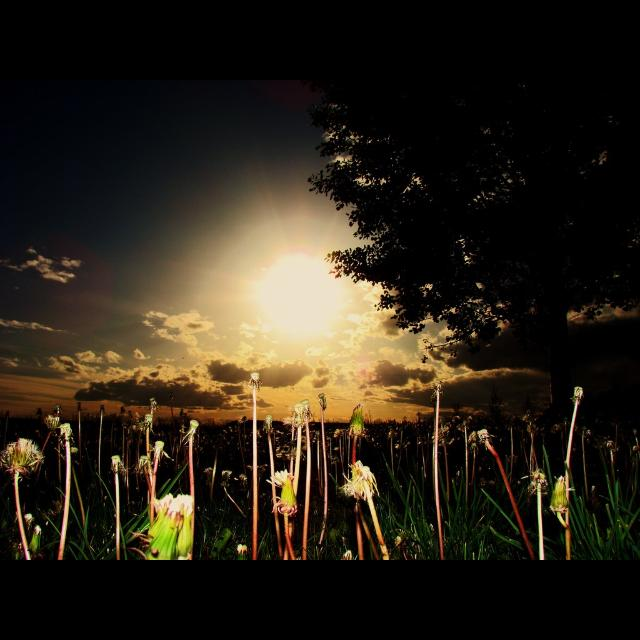Flower: (268, 468, 288, 486)
